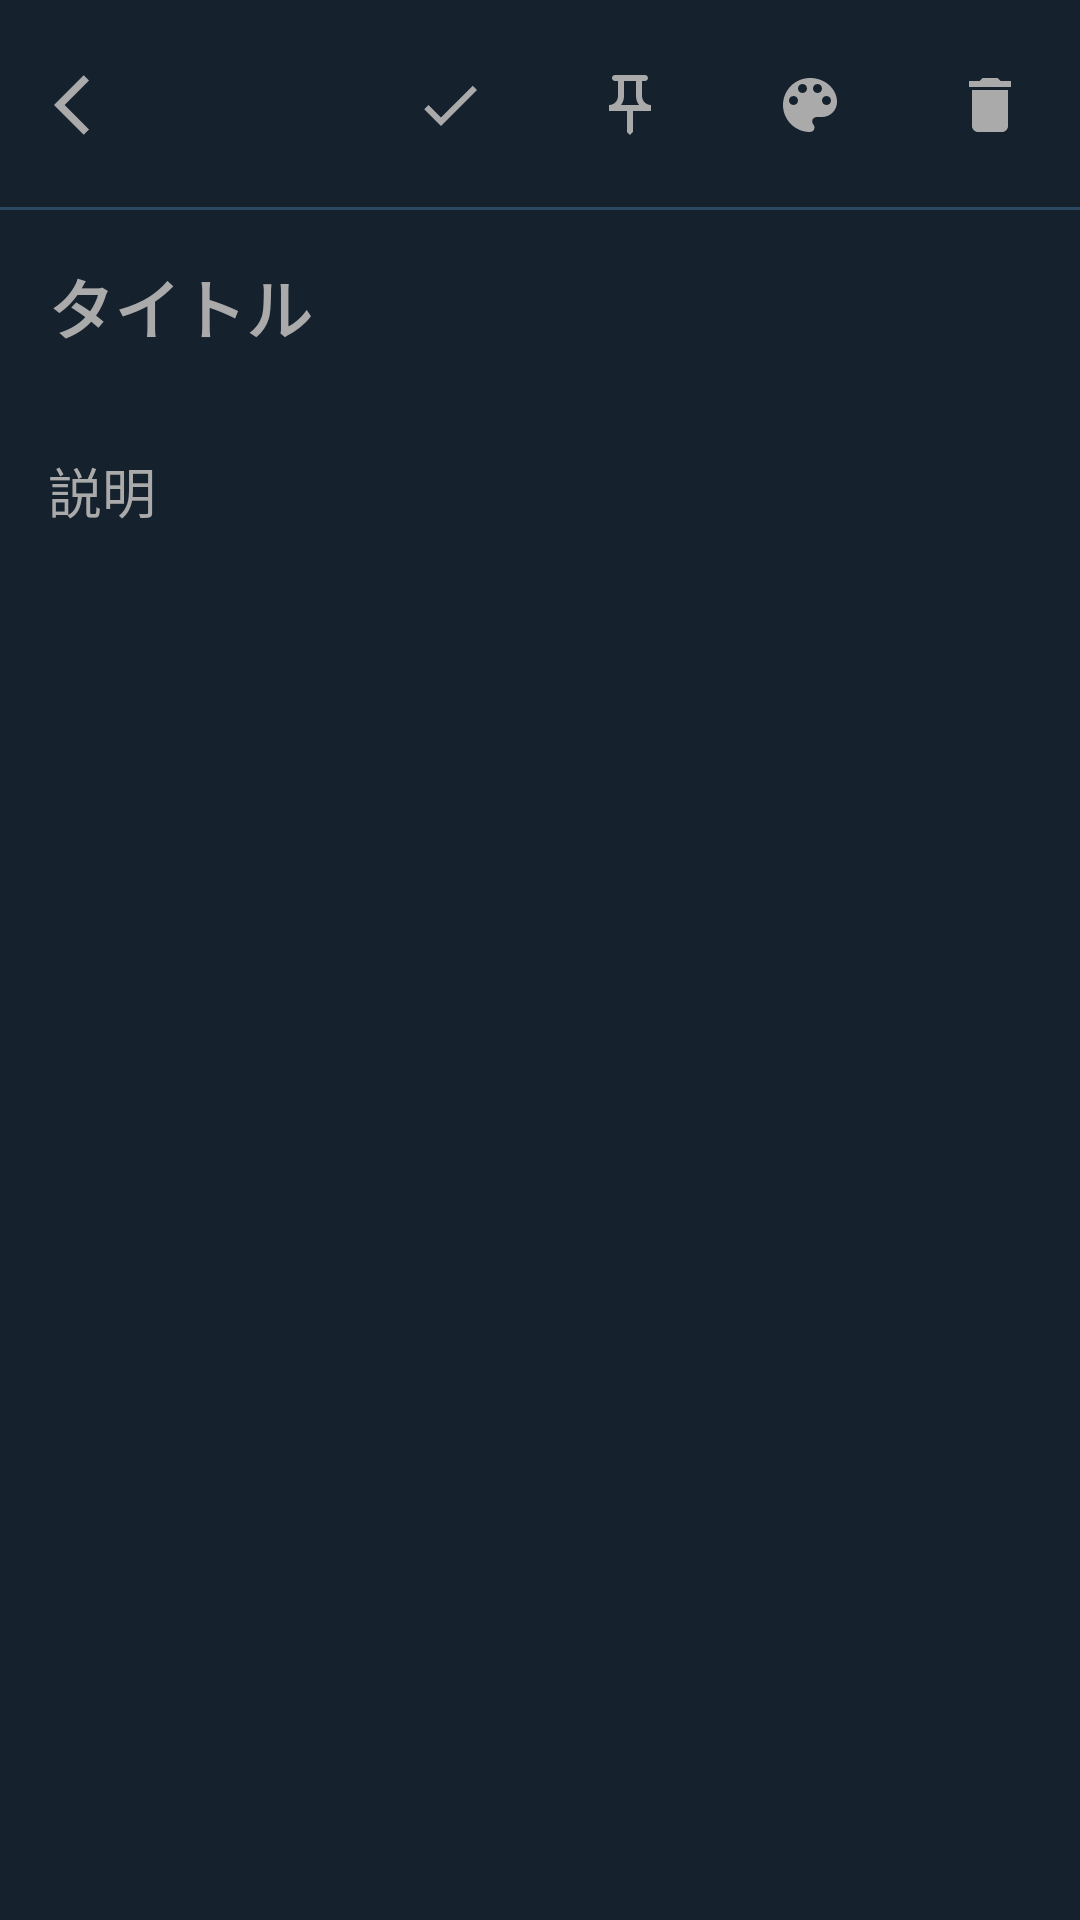

Icon click points for this 1080 × 1920 phone screenshot, format (x=x, y=y):
arrow back: (x=71, y=105)
check: (x=450, y=106)
delete: (x=990, y=105)
push pin: (x=630, y=105)
